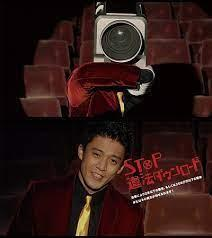no more kid: (90, 11, 150, 87)
